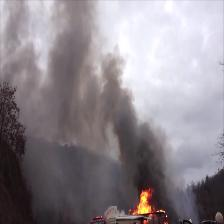fire: (135, 189, 152, 214)
smoke: (49, 59, 94, 128), (120, 134, 159, 187)
